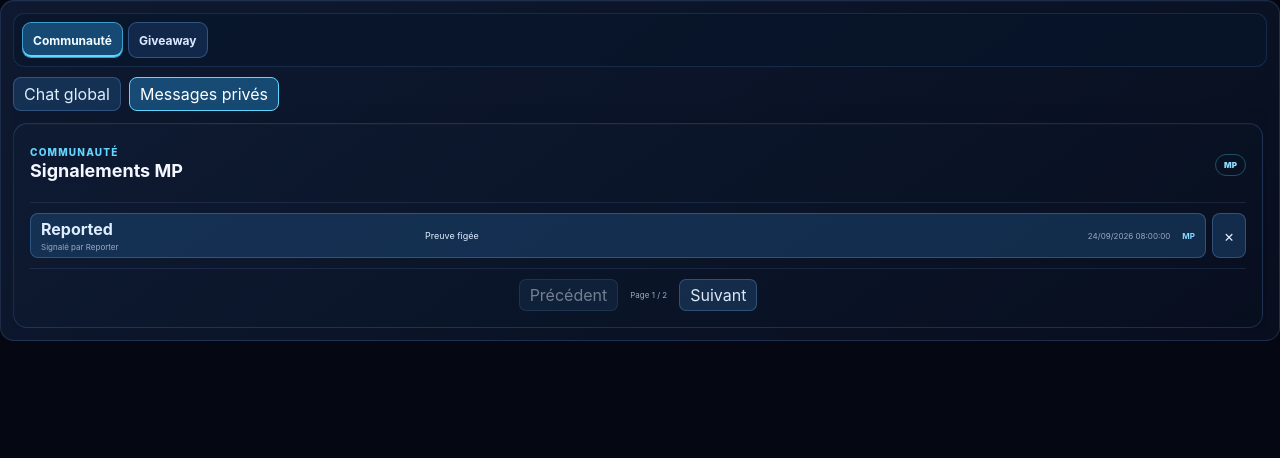
Test: ModerationScreen › opens a moderator-only account directly on Community and renders frozen detail without free browse
Expected: the tab "Communauté" is shown, 22,22 -> 123,58
Step 1. Click the button "Suivant" → (718,295), box 679,279 -> 757,311
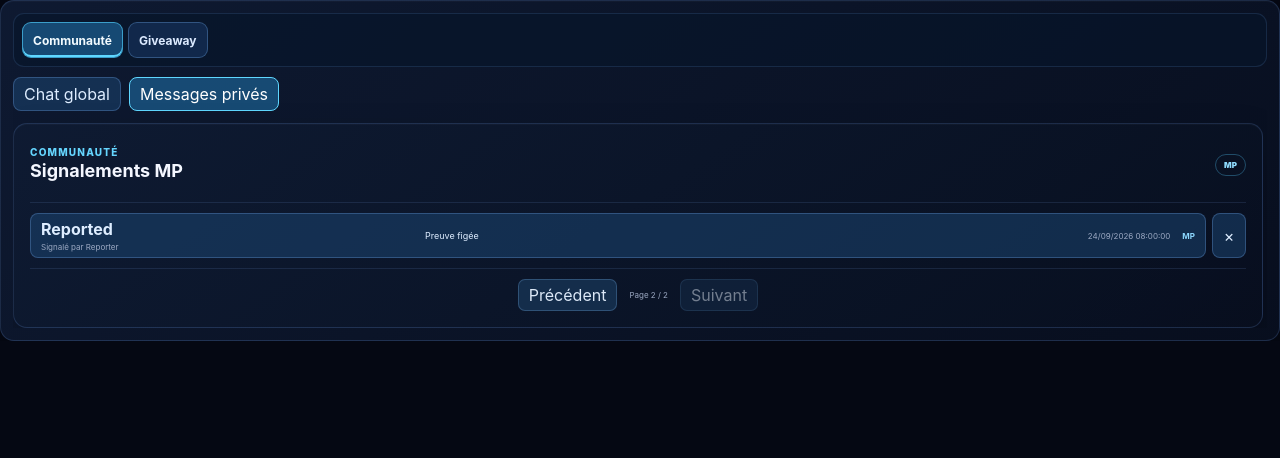
Now the text "Page 2 / 2" is shown, box 629,290 -> 668,300
Step 2. Click the button that starts with "Reported" → (77,229), box 30,213 -> 1206,258
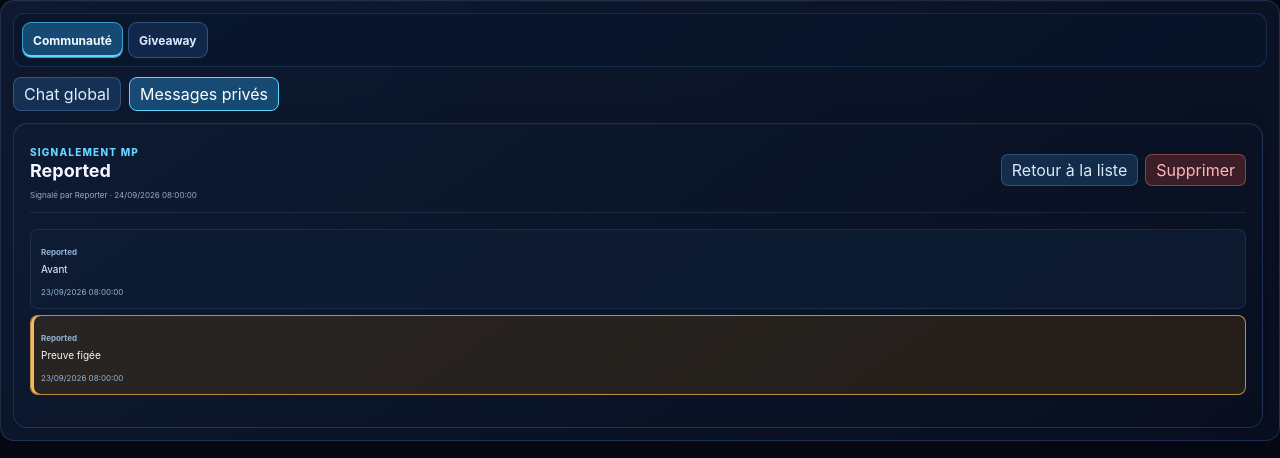
Now the element with class "target" shows "Preuve figée", box 41,349 -> 101,361
